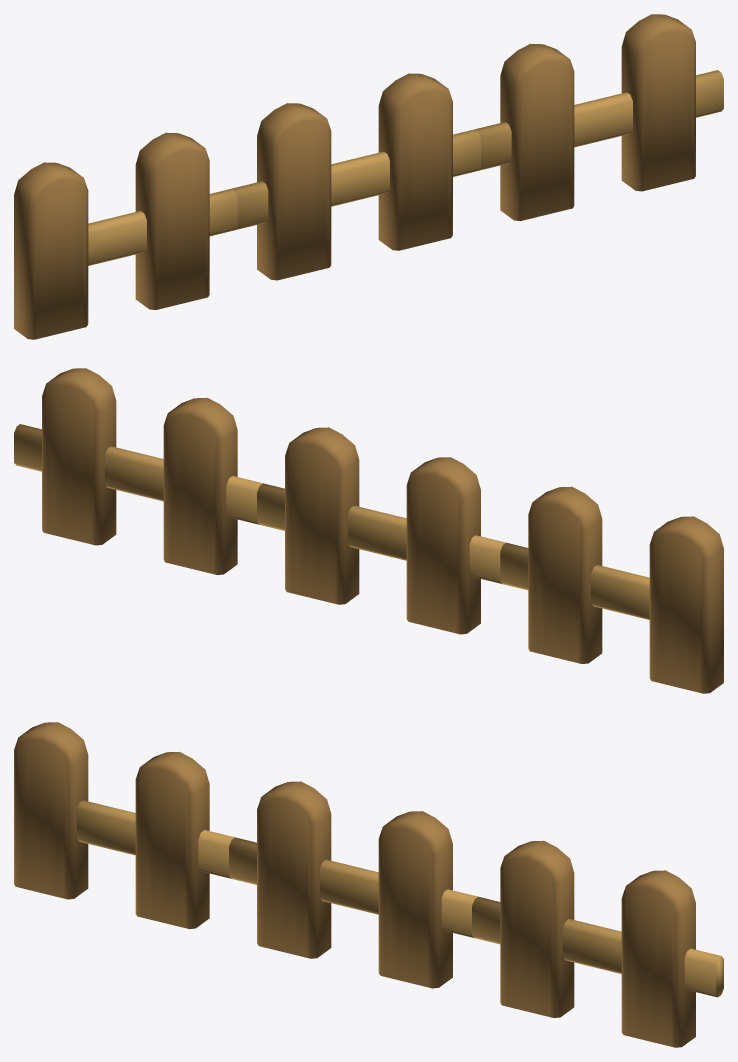
The model's file is Fince_Middle.gltf.
3 views of the same model, one above another, from view 1: azimuth 30°, elevation 25°; view 2: azimuth 150°, elevation 25°; view 3: azimuth 330°, elevation 25° (orthographic).
Parts seen in each view (by area): view 1: Fince_Middle; view 2: Fince_Middle; view 3: Fince_Middle.
Part boxes in pixels (left/top/right/bottom): Fince_Middle: left=14, top=14, right=723, bottom=339; Fince_Middle: left=14, top=368, right=723, bottom=693; Fince_Middle: left=14, top=722, right=723, bottom=1047.
Size of the model in its own units: 5.15 by 1.12 by 0.2371.
